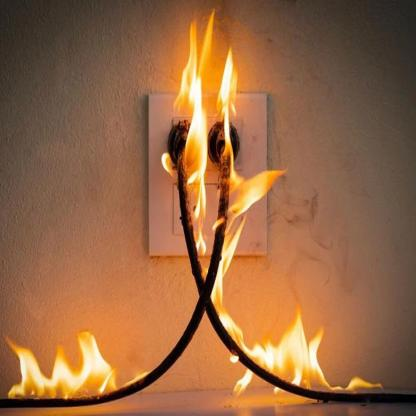fire: (159, 9, 289, 295), (208, 299, 381, 403), (3, 323, 118, 409)
